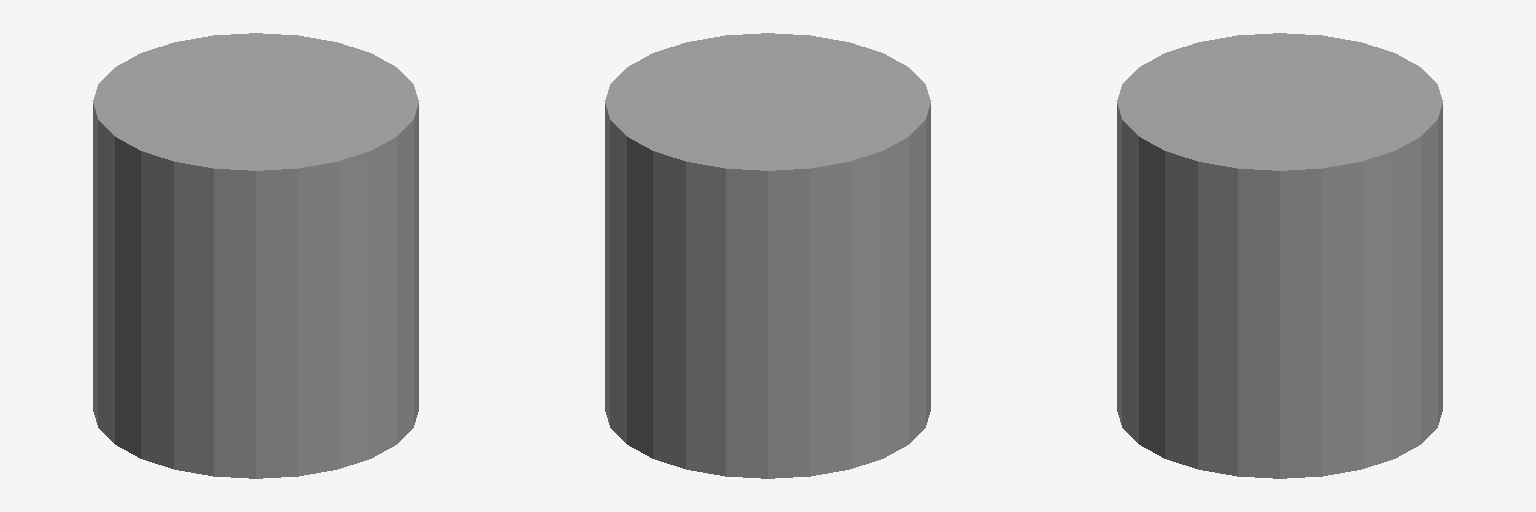
3 renders of one model, left to right at view 1: azimuth 30°, elevation 25°; view 2: azimuth 150°, elevation 25°; view 3: azimuth 270°, elevation 25°, orthographic.
Parts seen in each view (by area): view 1: Non_subD; view 2: Non_subD; view 3: Non_subD.
Boxes of the visible parts, box(x1,y1,x2,y2) form: Non_subD: box(93, 33, 418, 478); Non_subD: box(605, 33, 930, 478); Non_subD: box(1117, 33, 1442, 478).
Size of the model in its own units: 4.22 by 4.39 by 4.22.